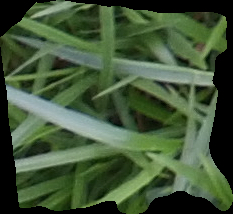grass: (1, 1, 232, 213)
